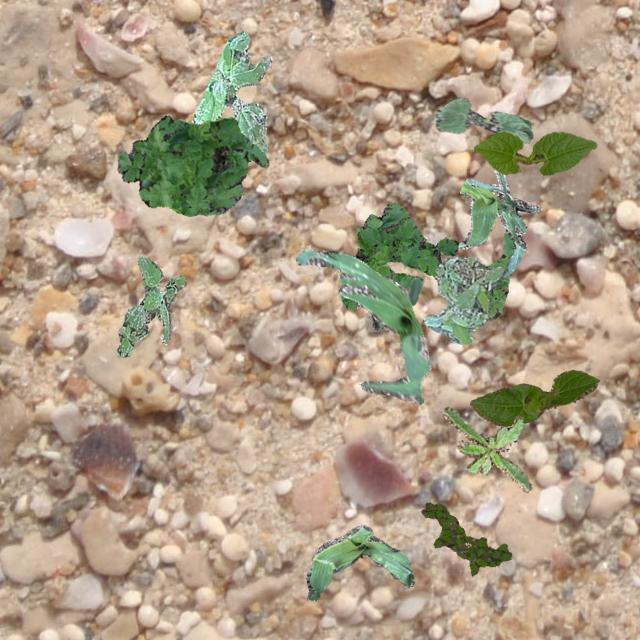crop: (294, 248, 430, 404), (458, 168, 540, 276), (306, 524, 414, 600), (468, 368, 598, 426), (472, 130, 596, 173), (434, 96, 532, 142)
weed: (340, 202, 516, 328), (118, 114, 268, 216), (190, 30, 272, 154), (442, 406, 530, 492), (422, 254, 504, 344), (116, 254, 186, 356), (420, 502, 510, 574)
